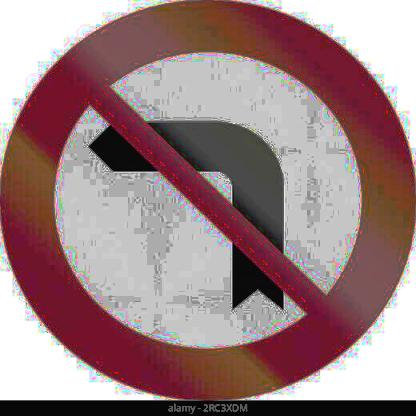No left turn: (0, 0, 414, 397)
